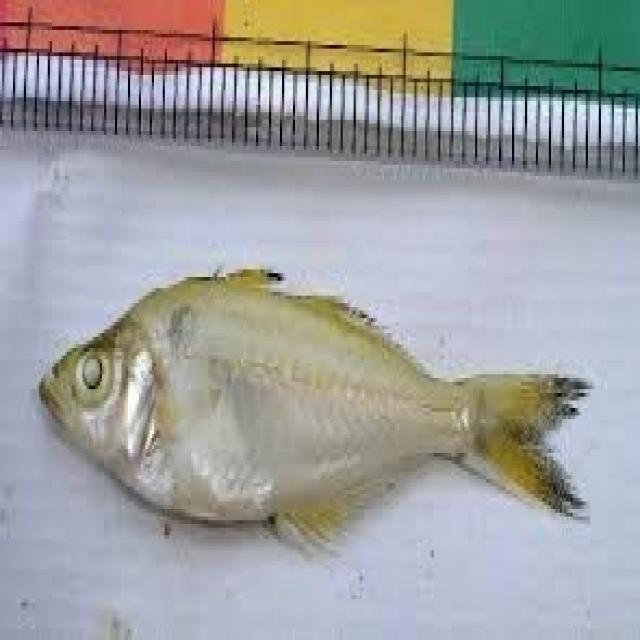Glass-Perchlet: (31, 190, 600, 590)
